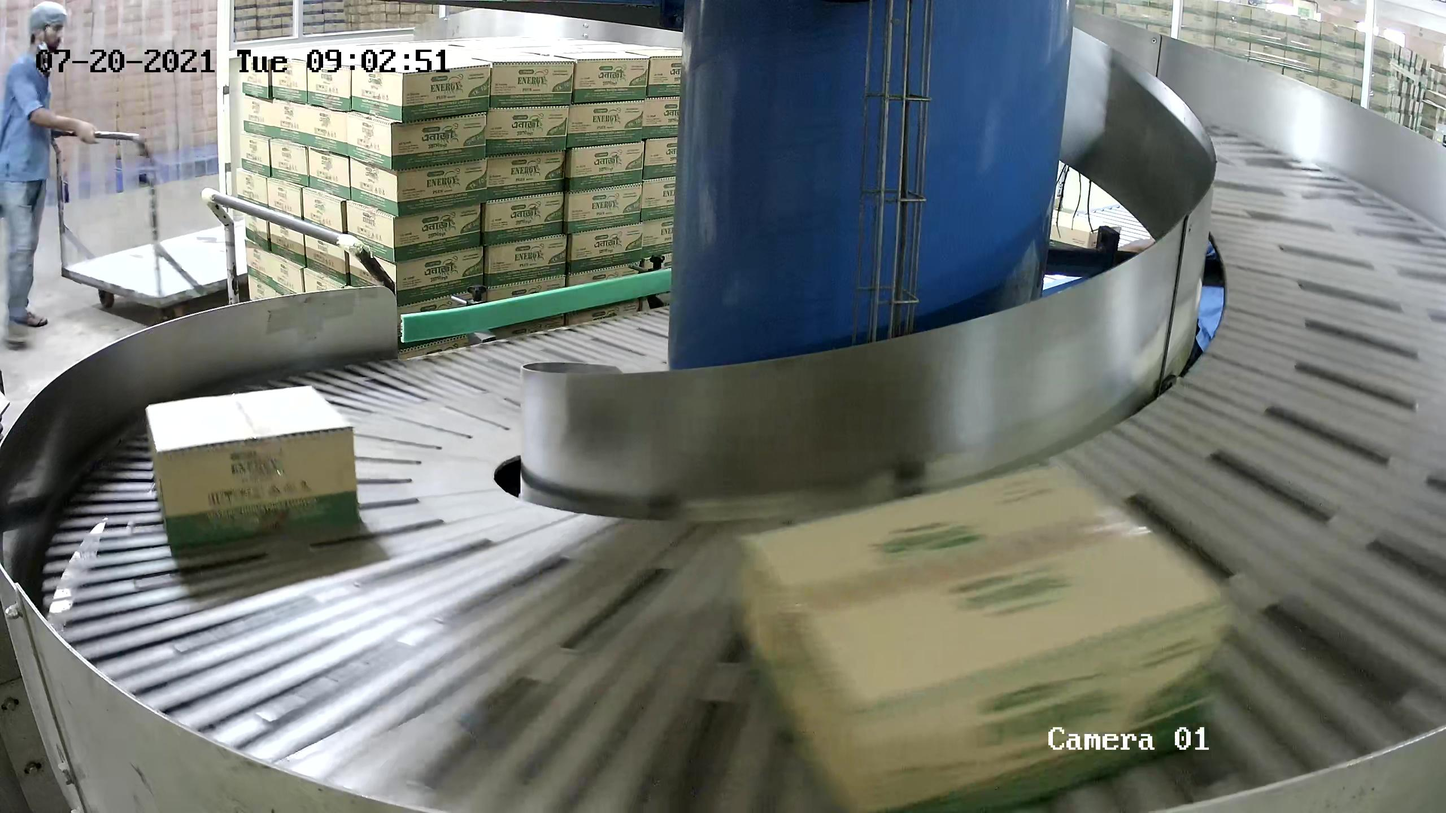Box: (733, 460, 1235, 813), (144, 383, 360, 548)
